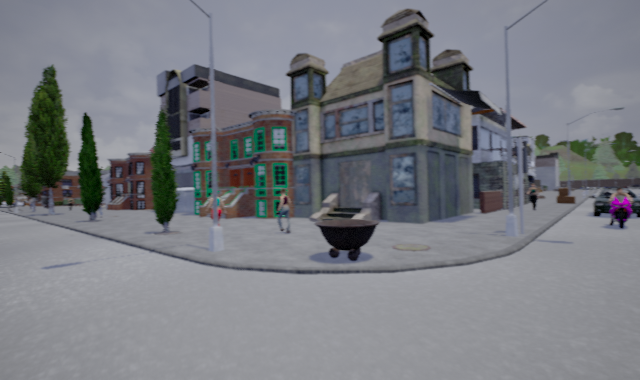motobike: (606, 185, 636, 230)
pedestrian: (204, 187, 224, 236), (273, 186, 292, 234), (526, 181, 541, 210)
vehicle: (588, 185, 639, 219)
